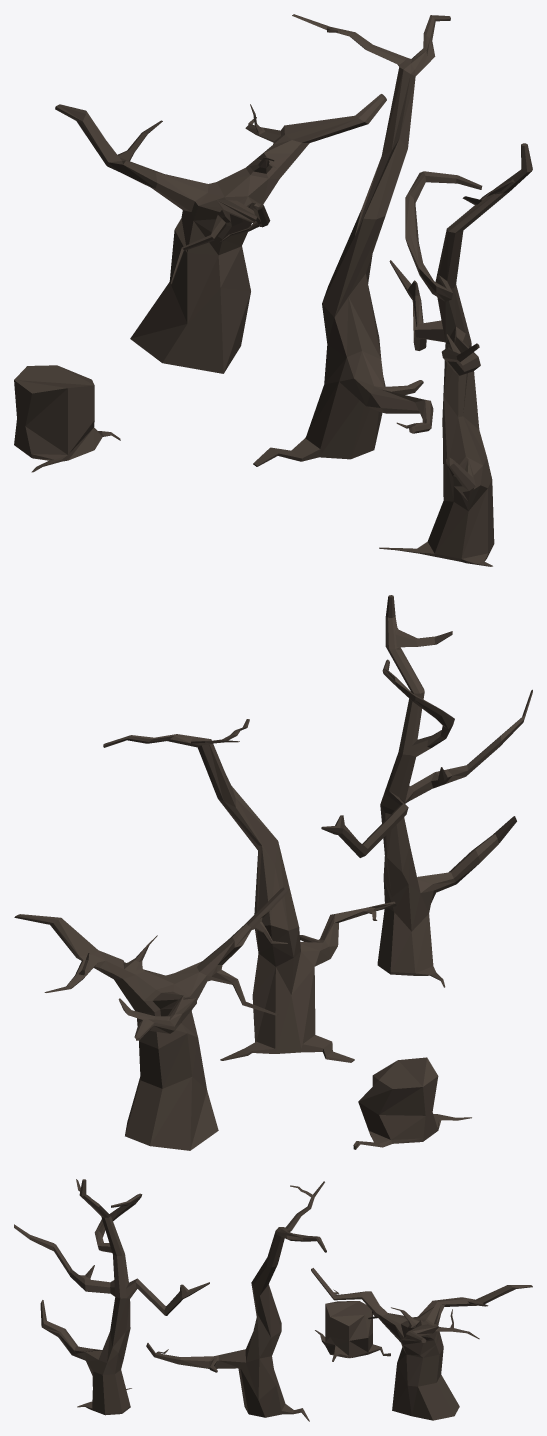
The model's file is trees.FBX.
3 renders of one model, top to bottom at view 1: azimuth 30°, elevation 25°; view 2: azimuth 150°, elevation 25°; view 3: azimuth 270°, elevation 25°, orthographic. The views are drawn at different scales.
Visible parts, largest first — view 1: tree1, tree2, tree3, stump1; view 2: tree1, tree3, tree2, stump1; view 3: tree3, tree1, tree2, stump1.
Boxes of the visible parts, left/top/right/bottom form: tree1: left=55, top=94, right=386, bottom=373; tree2: left=253, top=14, right=450, bottom=466; tree3: left=379, top=143, right=532, bottom=566; stump1: left=14, top=365, right=120, bottom=472; tree1: left=14, top=887, right=287, bottom=1150; tree3: left=321, top=595, right=532, bottom=987; tree2: left=103, top=719, right=396, bottom=1062; stump1: left=353, top=1057, right=471, bottom=1149; tree3: left=14, top=1179, right=209, bottom=1415; tree1: left=311, top=1268, right=532, bottom=1420; tree2: left=146, top=1181, right=326, bottom=1421; stump1: left=315, top=1301, right=390, bottom=1361.
Size of the model in its own units: 191 by 168 by 328.
